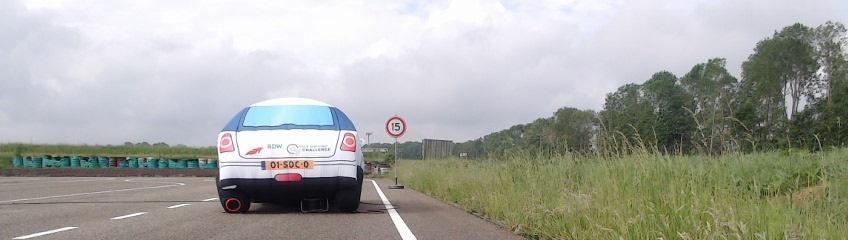Car: (218, 98, 364, 214)
Speed-limit-15km-h-: (385, 116, 407, 138)
